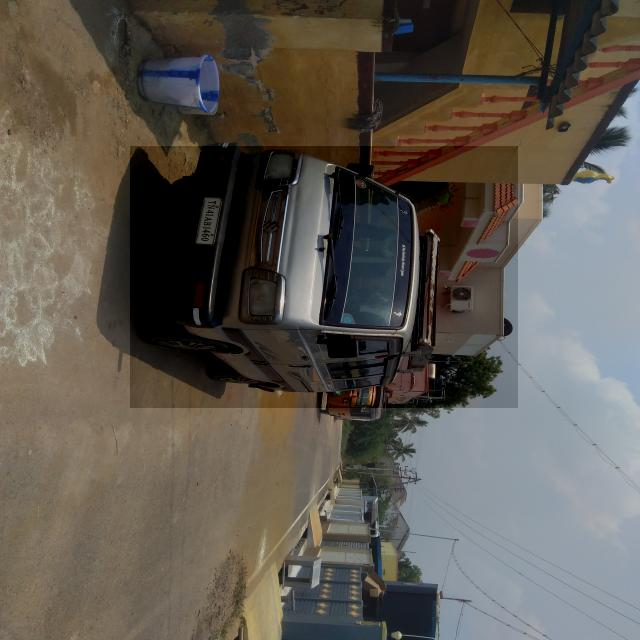Travller: (131, 146, 518, 408)
